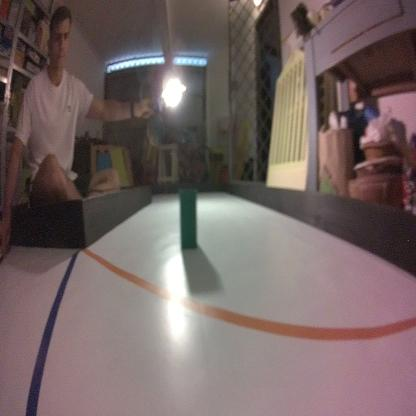green: (178, 187, 199, 251)
